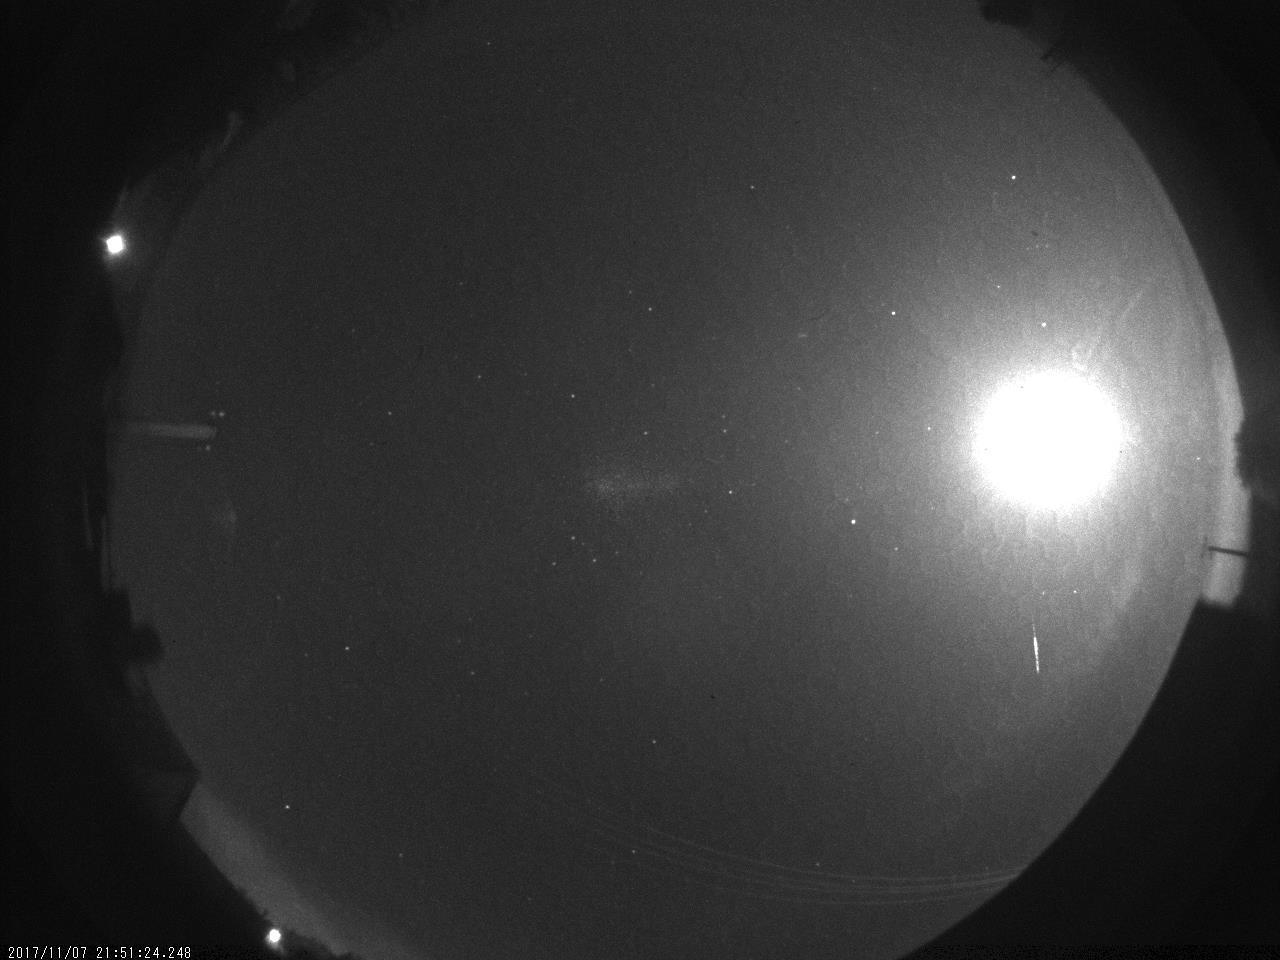Meteor: (1028, 610, 1048, 683)
